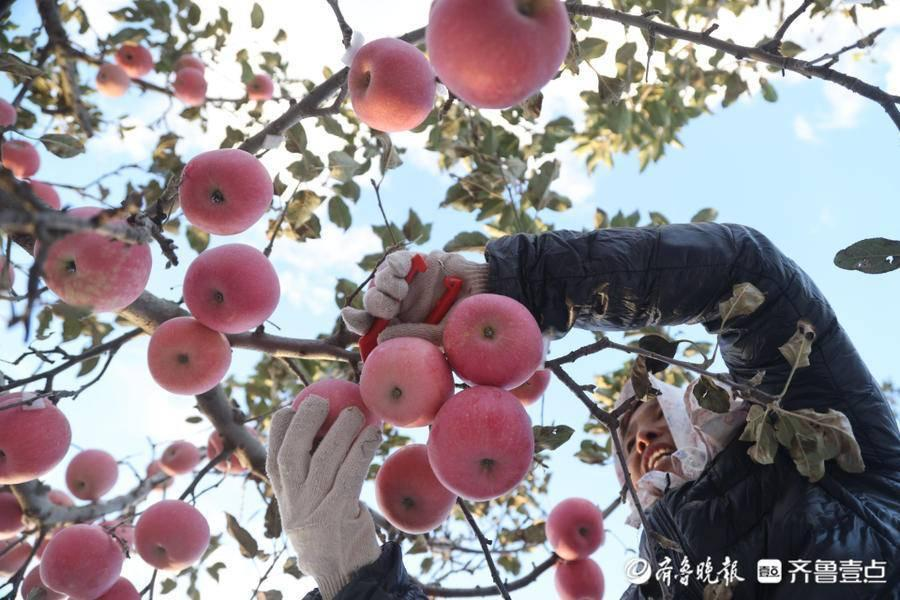apple: (428, 1, 569, 113), (35, 206, 156, 313), (426, 387, 537, 500), (441, 293, 544, 388), (356, 337, 452, 432), (182, 245, 281, 335), (345, 35, 435, 134), (177, 147, 272, 236), (376, 443, 456, 534), (146, 317, 234, 397), (1, 397, 71, 486), (36, 525, 122, 596), (133, 499, 213, 574), (545, 495, 603, 559), (64, 449, 117, 502), (552, 557, 606, 600), (154, 439, 199, 476), (114, 42, 152, 78), (92, 65, 130, 97)
